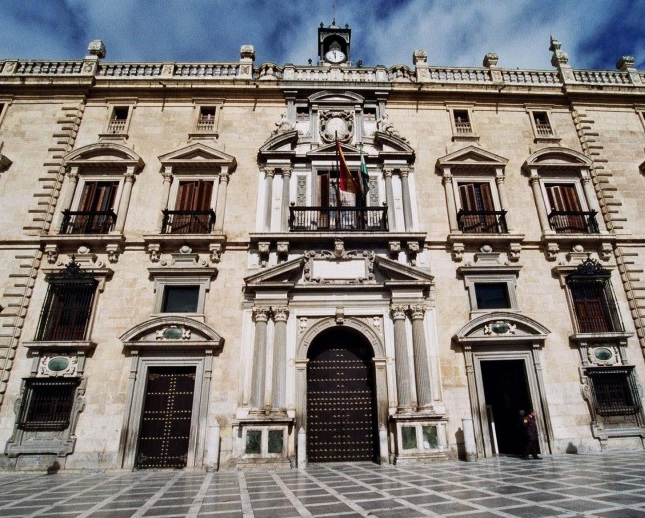arco-medio-punto: (300, 321, 383, 370)
fronton: (156, 140, 239, 170), (432, 144, 512, 171), (304, 139, 372, 163)
fronton-curvo: (116, 312, 227, 354), (451, 309, 553, 351), (64, 140, 146, 172), (522, 145, 596, 176), (308, 88, 369, 107)
fronton-partido: (240, 255, 439, 291), (258, 127, 417, 161)
vano-adintelado: (116, 356, 215, 471), (462, 353, 553, 459), (55, 173, 138, 235), (157, 173, 231, 233), (441, 174, 513, 235), (529, 176, 601, 234)
